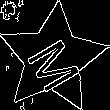M_NE: (20, 26, 86, 91)
